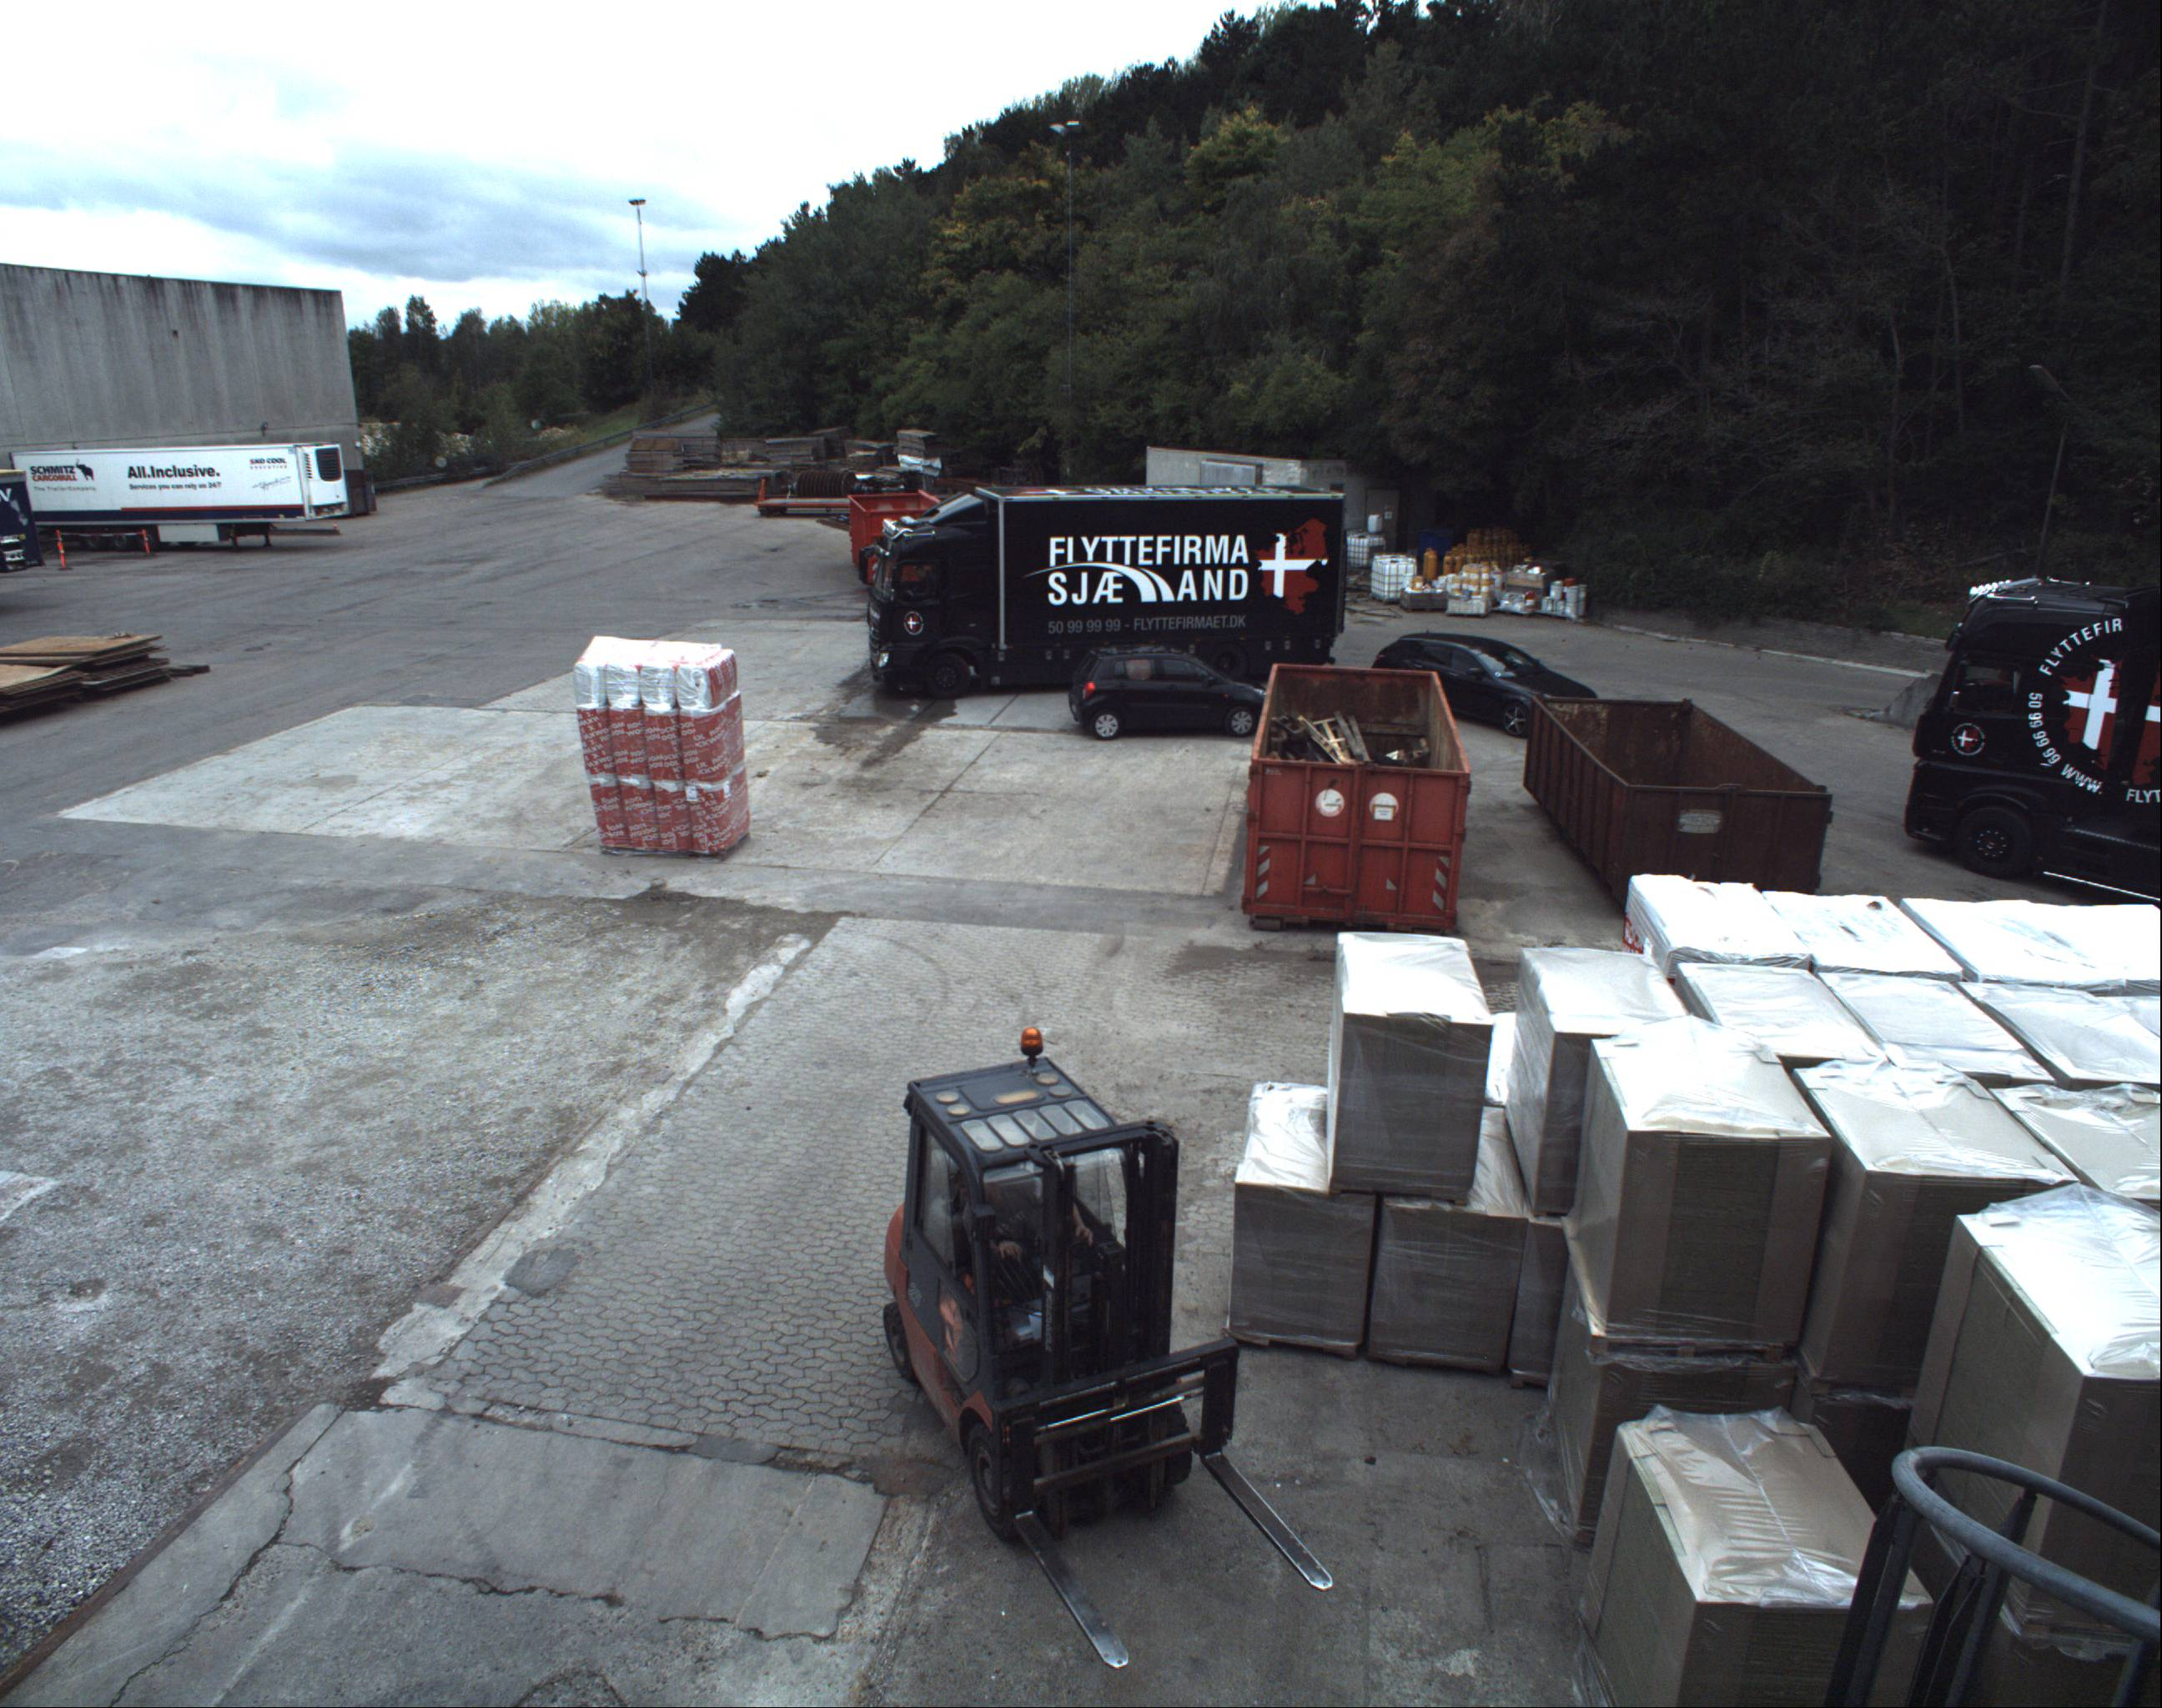rockwool_batts: (562, 625, 756, 871)
